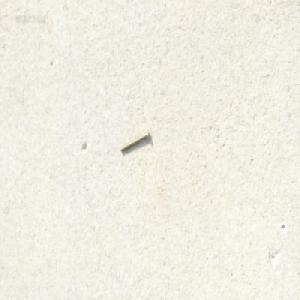Bolt: (120, 129, 150, 152)
